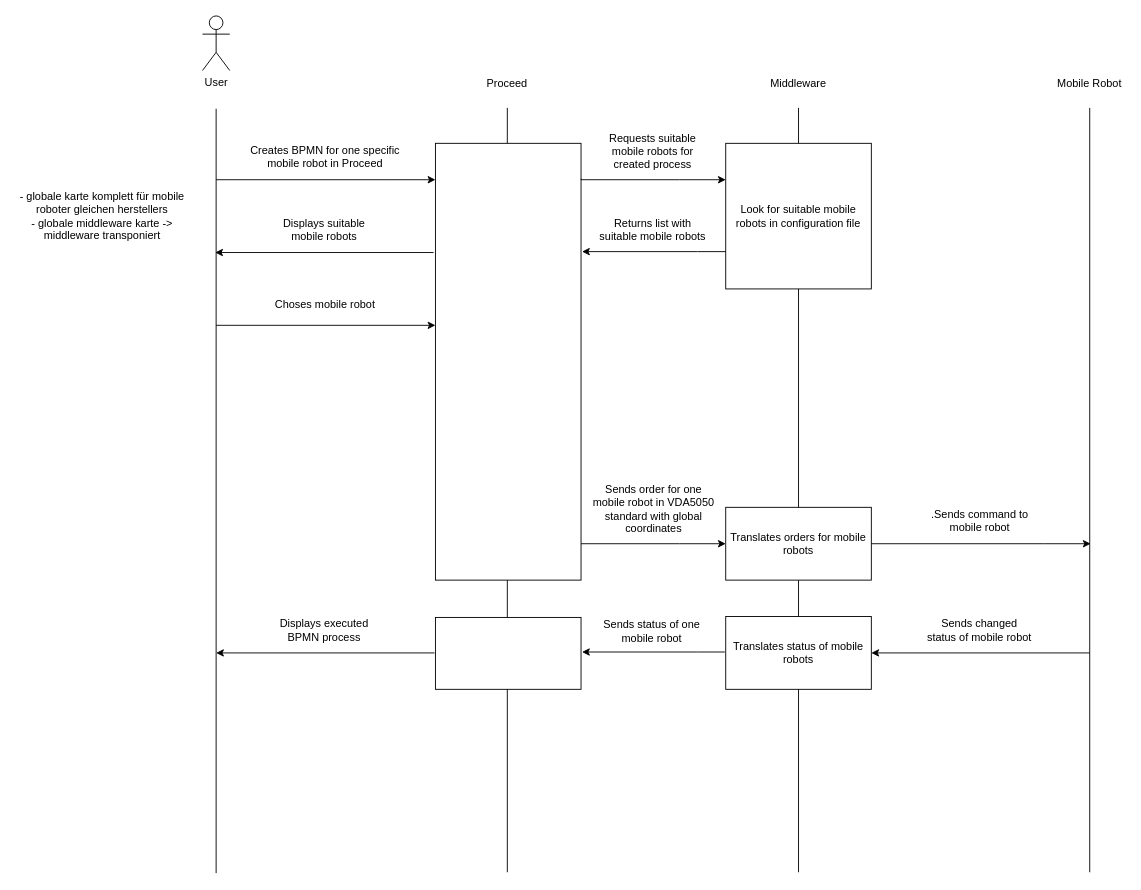
Image size: 1141x890. Some labels were removed from this diagram. Each missing label, with the centre of its shape:
"Creation of BPMN process" goes at pixel 508 361.
"Translate status of mobile robot to display executed process" goes at pixel 508 653.
